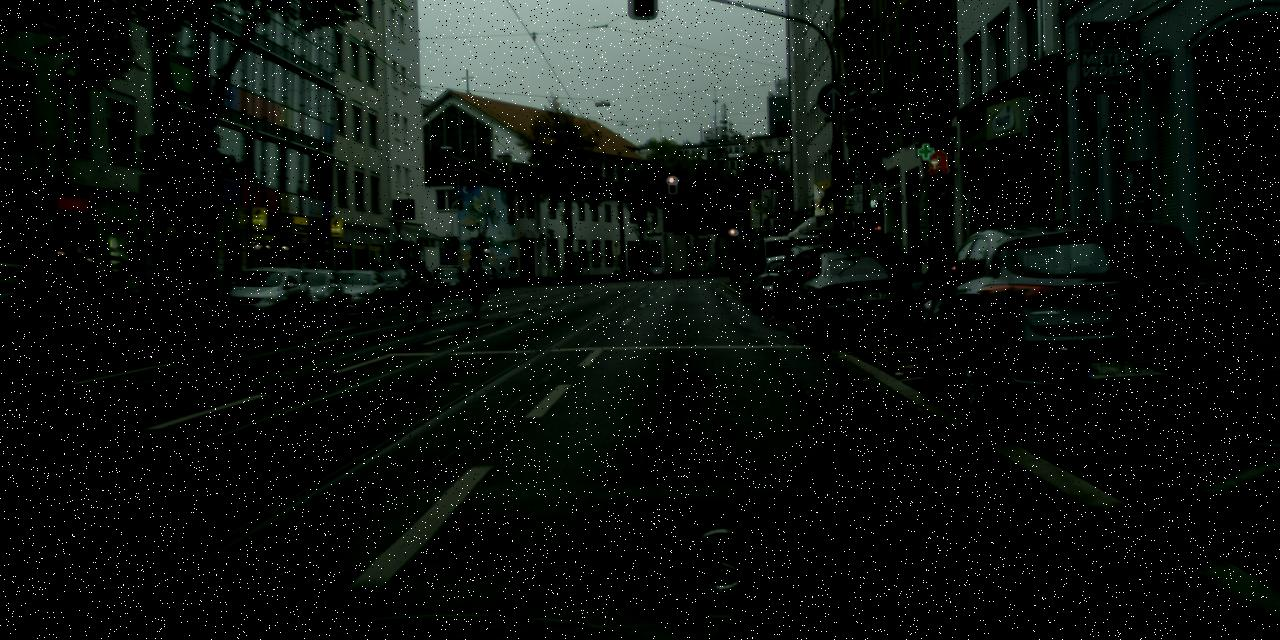ped: (876, 231, 904, 300), (925, 232, 953, 288), (408, 259, 433, 321), (463, 258, 488, 318)
